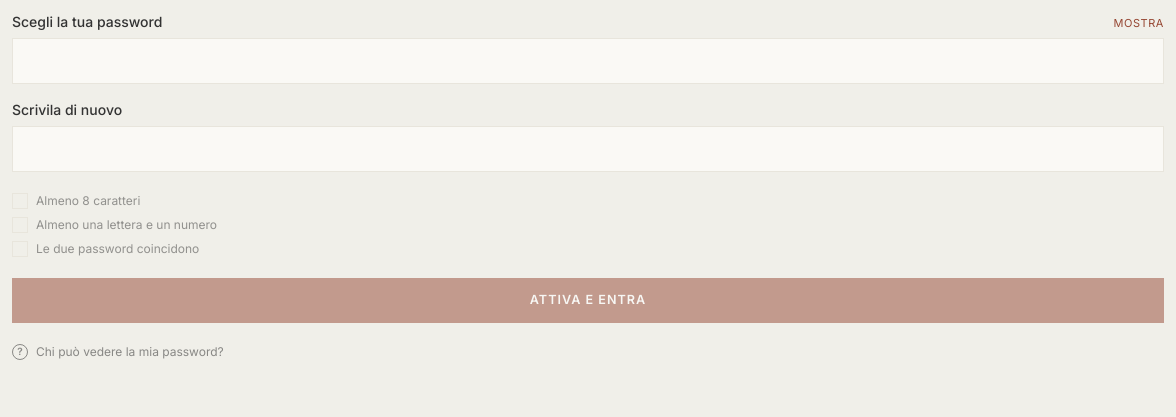
Scenario: ActivationForm — errore di signIn dopo l'attivazione › un blocco per troppi tentativi viene mostrato integrale, non un redirect silenzioso
In the password field labelled "Scegli la tua password": (588, 61) [12,38,1164,84], type "Password123"
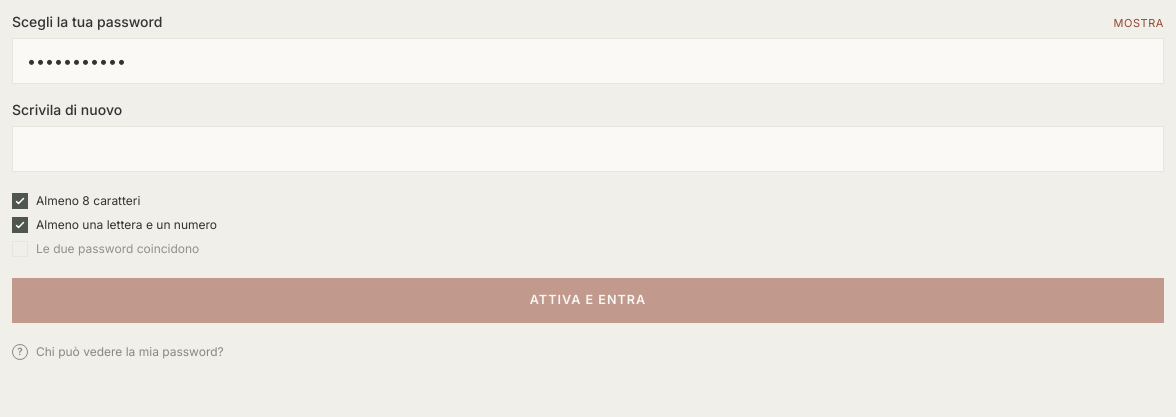
In the password field labelled "Scrivila di nuovo": (588, 149) [12,126,1164,172], type "Password123"
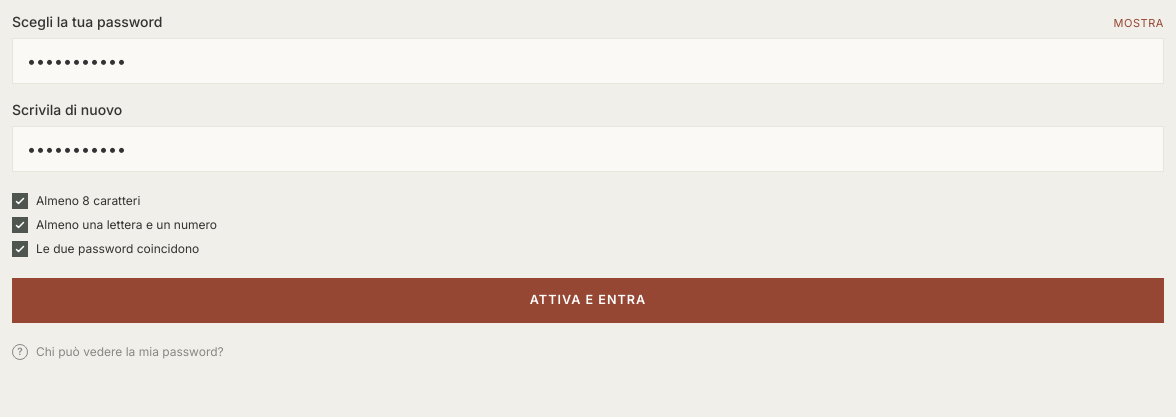
Click the button "Attiva e entra": (588, 300) [12,278,1164,323]
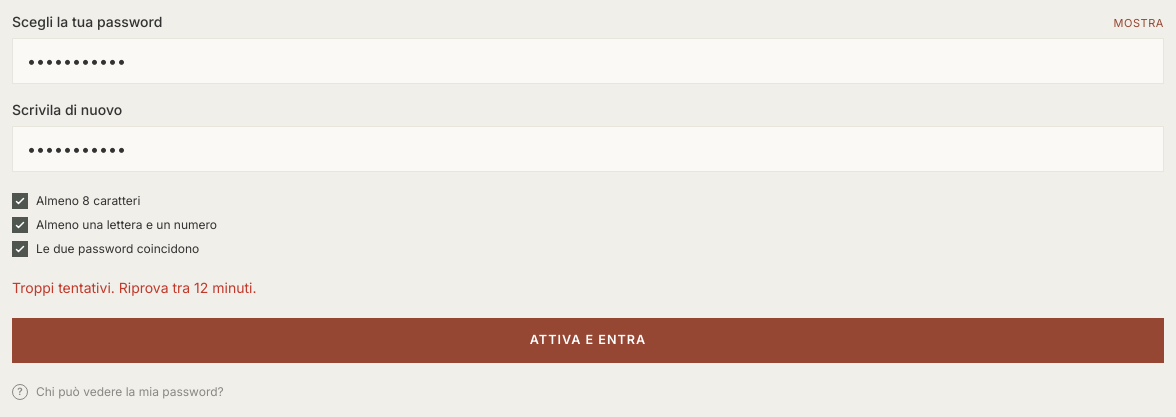
Result: the text "Troppi tentativi. Riprova tra 12 minuti." is shown at [12,279,256,296]
